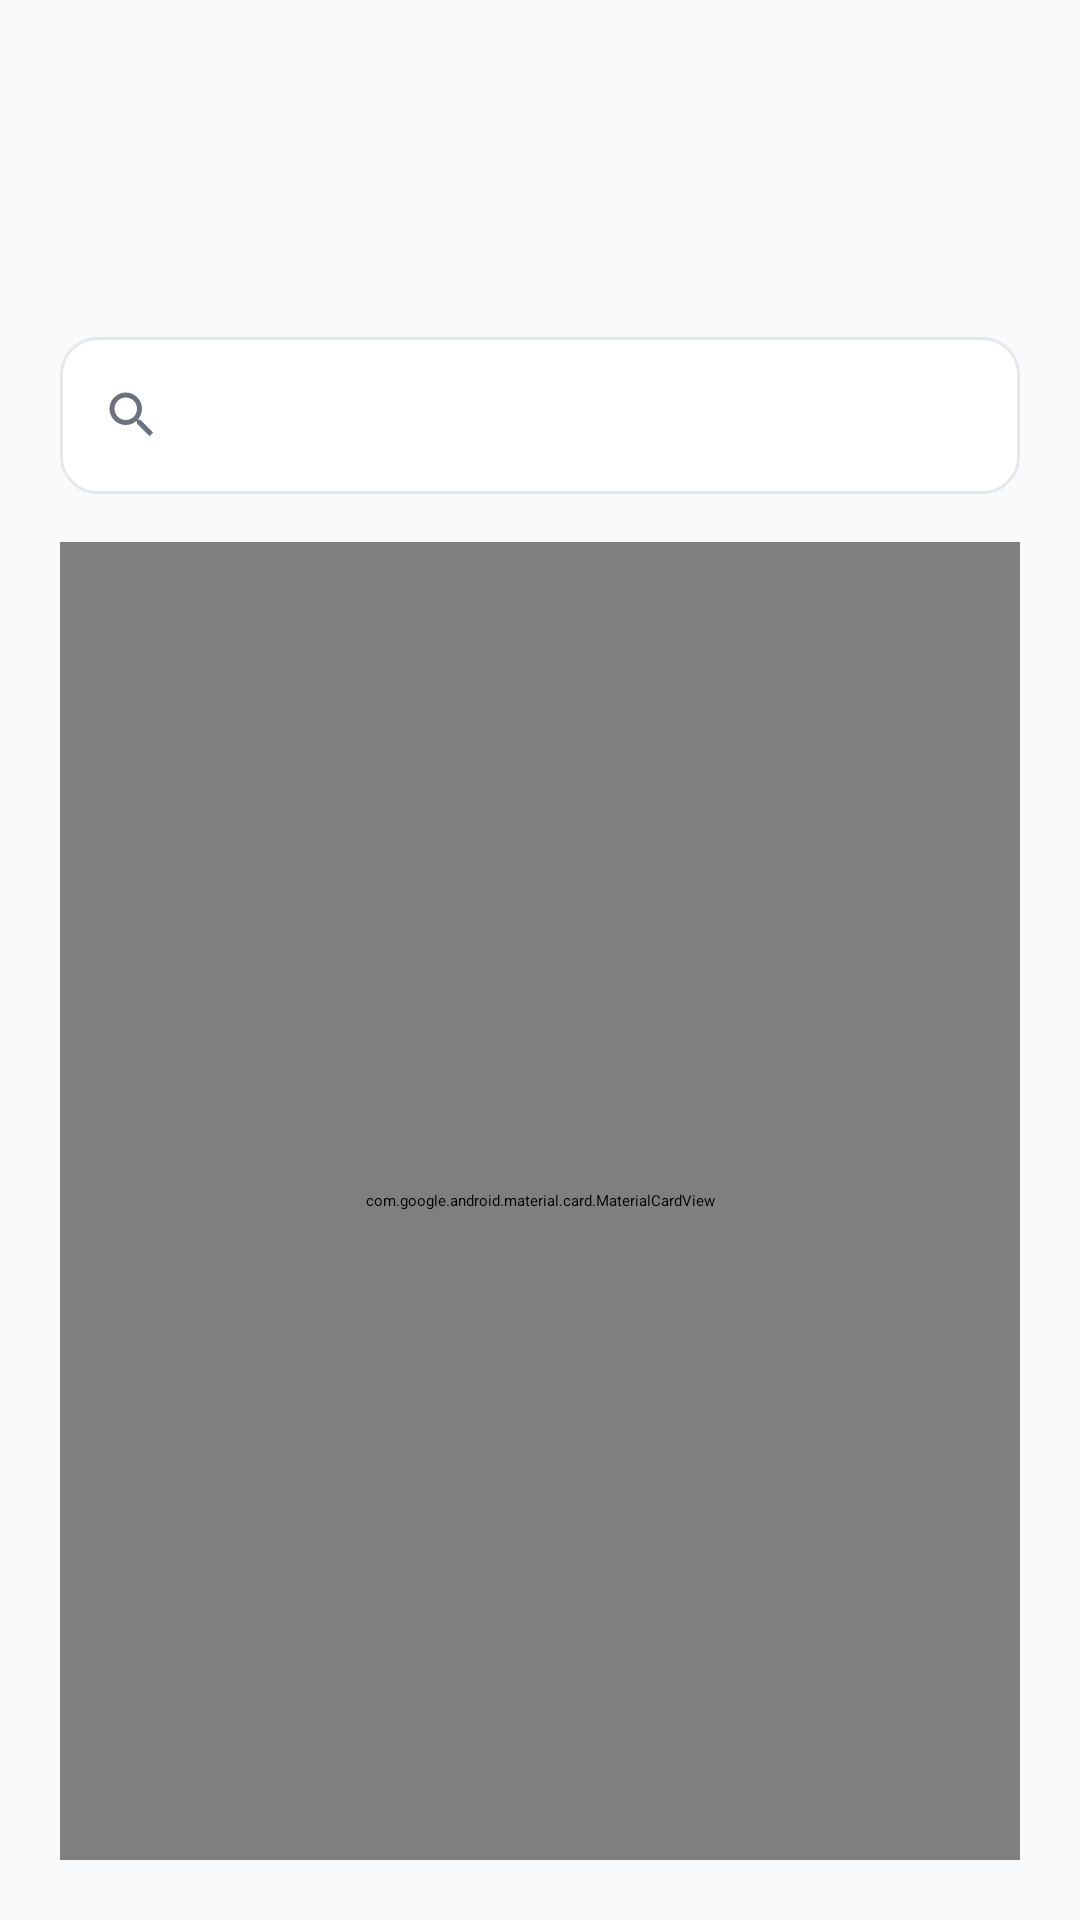

Screen size 1080*1920. Icon name, then its center in pixels as [x,y]:
search: [131,414]
